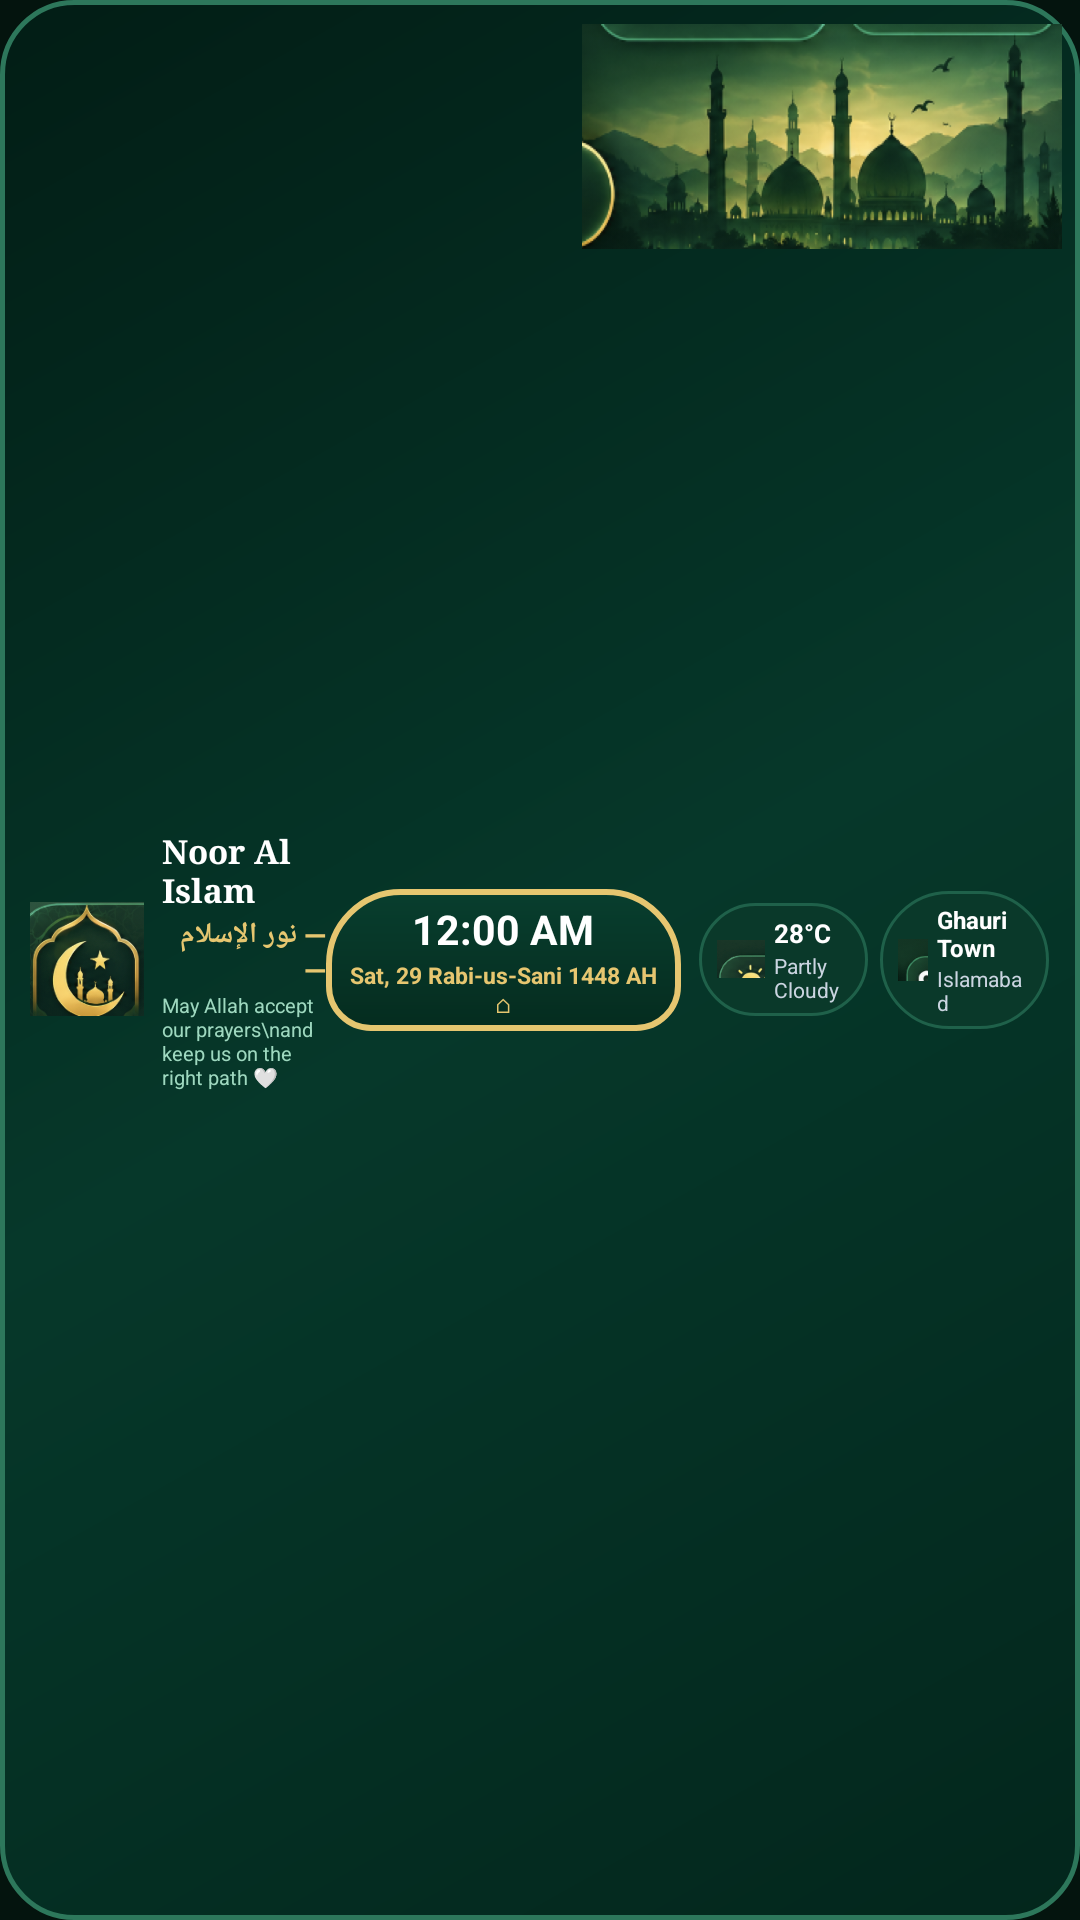

Named icons in this screenshot (1080 x 1920) and their bounding boxes, box=[x1, y1, x2, y2]:
widget emblem: box=[30, 902, 144, 1016]
